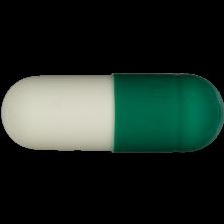42291-323: (0, 0, 224, 224)
